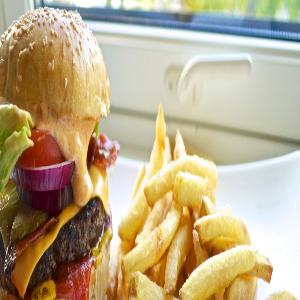cheeseburger_475cal: (2, 5, 120, 298)
fries_350cal: (128, 102, 279, 299)
